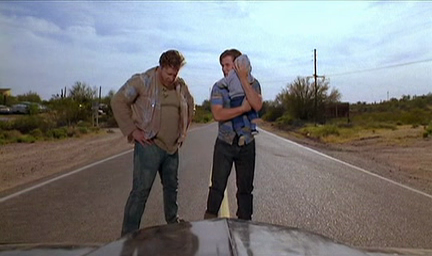face: (219, 60, 233, 79), (162, 69, 177, 86)
ls: (1, 1, 432, 256)
person: (109, 49, 194, 238), (203, 48, 262, 220)
